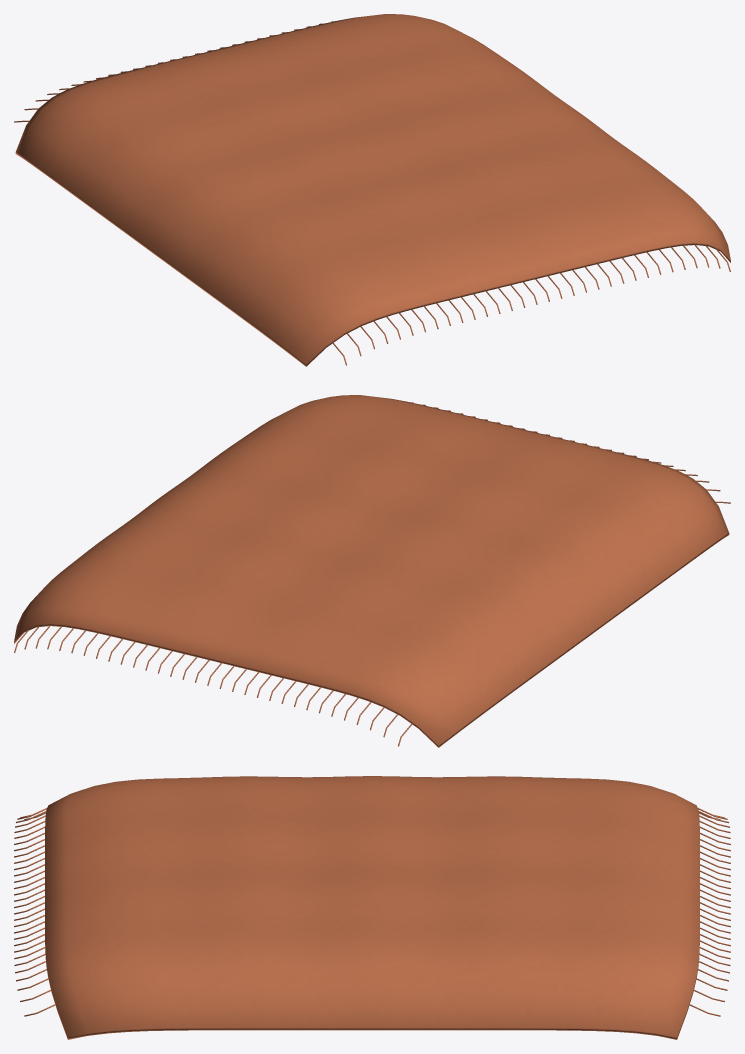
The model's file is throw-blanket-original-interior-decor.glb.
3 renders of one model, top to bottom at view 1: azimuth 30°, elevation 25°; view 2: azimuth 150°, elevation 25°; view 3: azimuth 270°, elevation 25°, orthographic. The views are drawn at different scales.
Parts seen in each view (by area): view 1: Original closed woven throw; view 2: Original closed woven throw; view 3: Original closed woven throw.
Part boxes in pixels (left/top/right/bottom): Original closed woven throw: left=15, top=14, right=730, bottom=366; Original closed woven throw: left=14, top=395, right=729, bottom=747; Original closed woven throw: left=45, top=776, right=699, bottom=1039.
Bounding box in the file's own units: 1.35 × 0.1967 × 1.75.
Materials: 1 (1 with a texture image).
